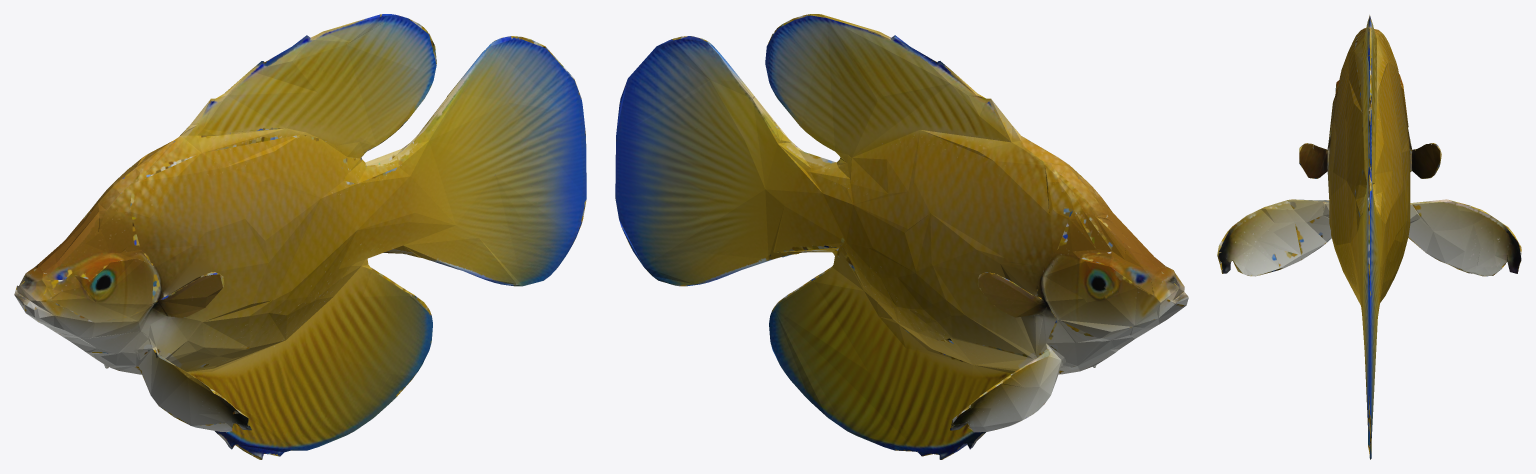
File: fish_0105_smpl23_resized.glb
3 renders of one model, left to right at view 1: azimuth 30°, elevation 25°; view 2: azimuth 150°, elevation 25°; view 3: azimuth 270°, elevation 25°, orthographic.
Visible parts, largest first — view 1: world; view 2: world; view 3: world.
Part boxes in pixels (x1,y1,x2,y2): world: [14, 14, 586, 459]; world: [615, 14, 1188, 459]; world: [1217, 15, 1521, 459].
Bounding box in the file's own units: 1.99 × 1.4 × 0.908.
Materials: 1 (1 with a texture image).
